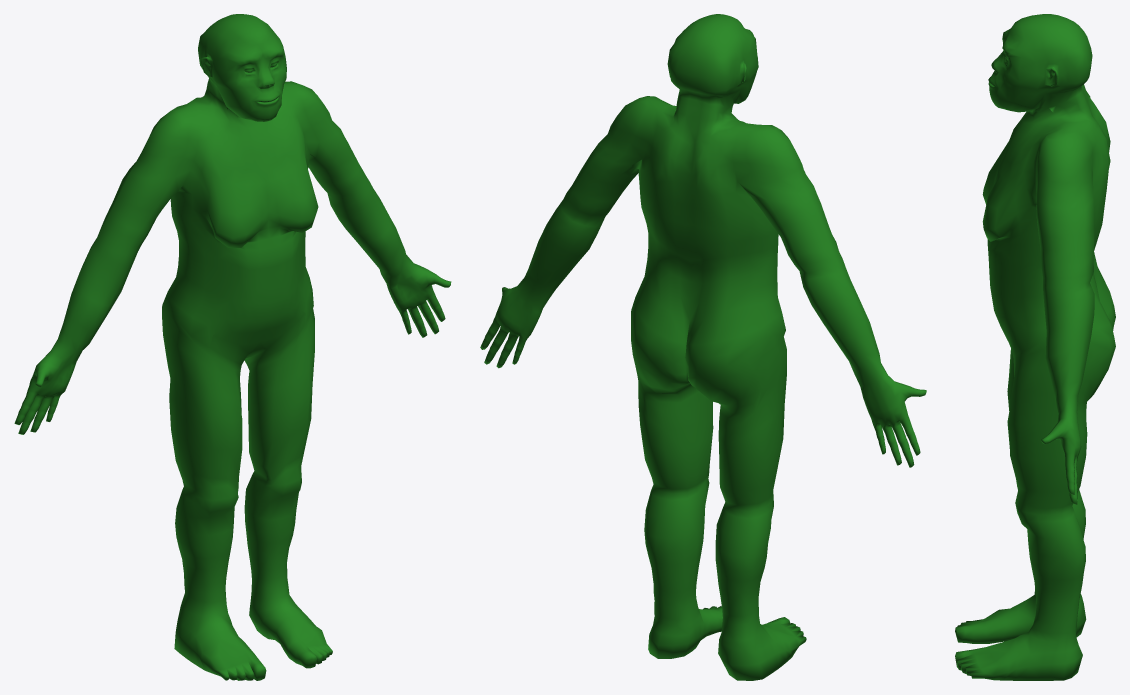
Rendered from FiguraLB1.glb.
3 renders of one model, left to right at view 1: azimuth 30°, elevation 25°; view 2: azimuth 150°, elevation 25°; view 3: azimuth 270°, elevation 25°, orthographic. The views are drawn at different scales.
Parts seen in each view (by area): view 1: Object_5_Museo; view 2: Object_5_Museo; view 3: Object_5_Museo.
Part boxes in pixels (x1,y1,x2,y2): Object_5_Museo: (14,14,451,680); Object_5_Museo: (480,14,926,680); Object_5_Museo: (955,14,1115,680).
Bounding box in the file's own units: 0.7224 × 1 × 0.2298.
